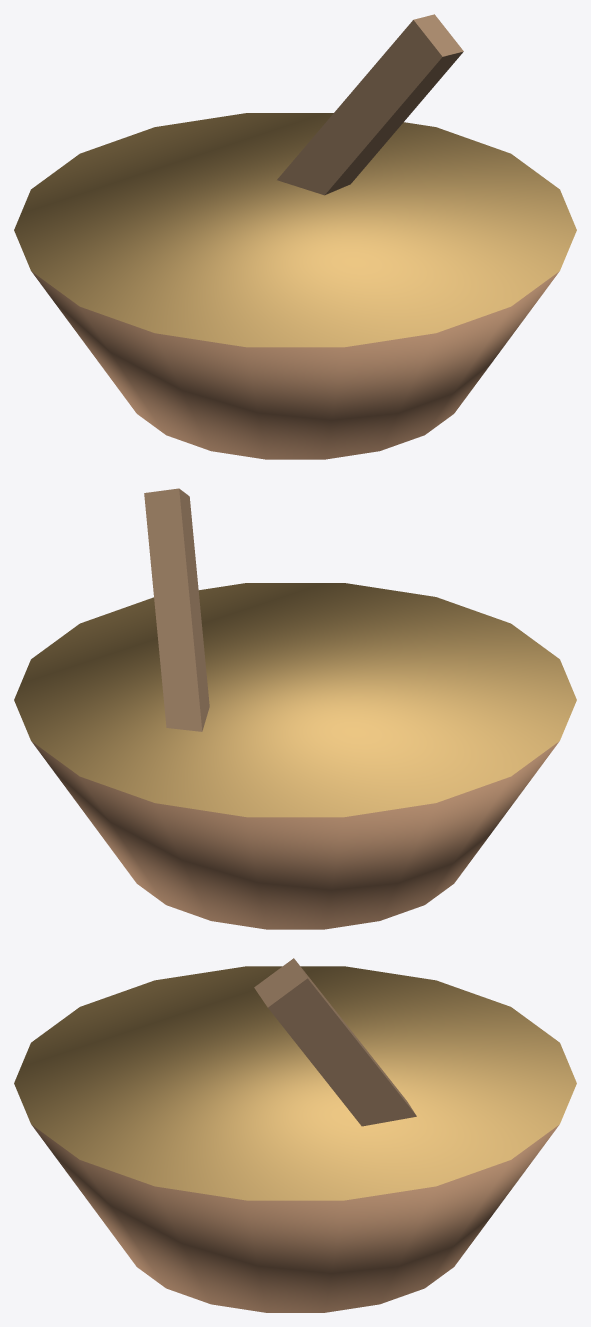
Rendered from cuenco_guiso.glb.
3 renders of one model, top to bottom at view 1: azimuth 30°, elevation 25°; view 2: azimuth 150°, elevation 25°; view 3: azimuth 270°, elevation 25°, orthographic.
Visible parts, largest first — view 1: CuencoGuiso; view 2: CuencoGuiso; view 3: CuencoGuiso.
Part boxes in pixels (<box>): CuencoGuiso: <box>14,14,576,459</box>; CuencoGuiso: <box>14,488,576,929</box>; CuencoGuiso: <box>14,958,576,1312</box>.
Size of the model in its own units: 0.2462 by 0.1674 by 0.25.
